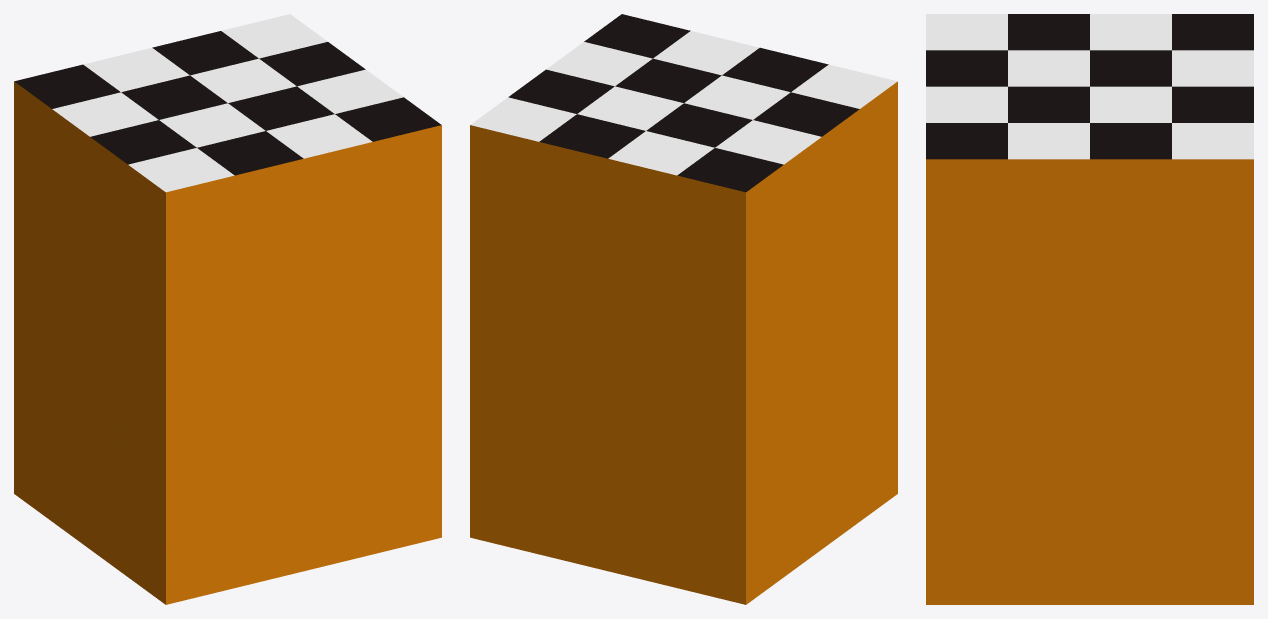
File: Floor7.fbx
3 renders of one model, left to right at view 1: azimuth 30°, elevation 25°; view 2: azimuth 150°, elevation 25°; view 3: azimuth 270°, elevation 25°, orthographic. The views are drawn at different scales.
Visible parts, largest first — view 1: Cube; view 2: Cube; view 3: Cube.
Part boxes in pixels (x1,y1,x2,y2): Cube: (14,14,441,604); Cube: (470,14,897,604); Cube: (926,14,1253,604).
Bounding box in the file's own units: 840 × 1200 × 800.
